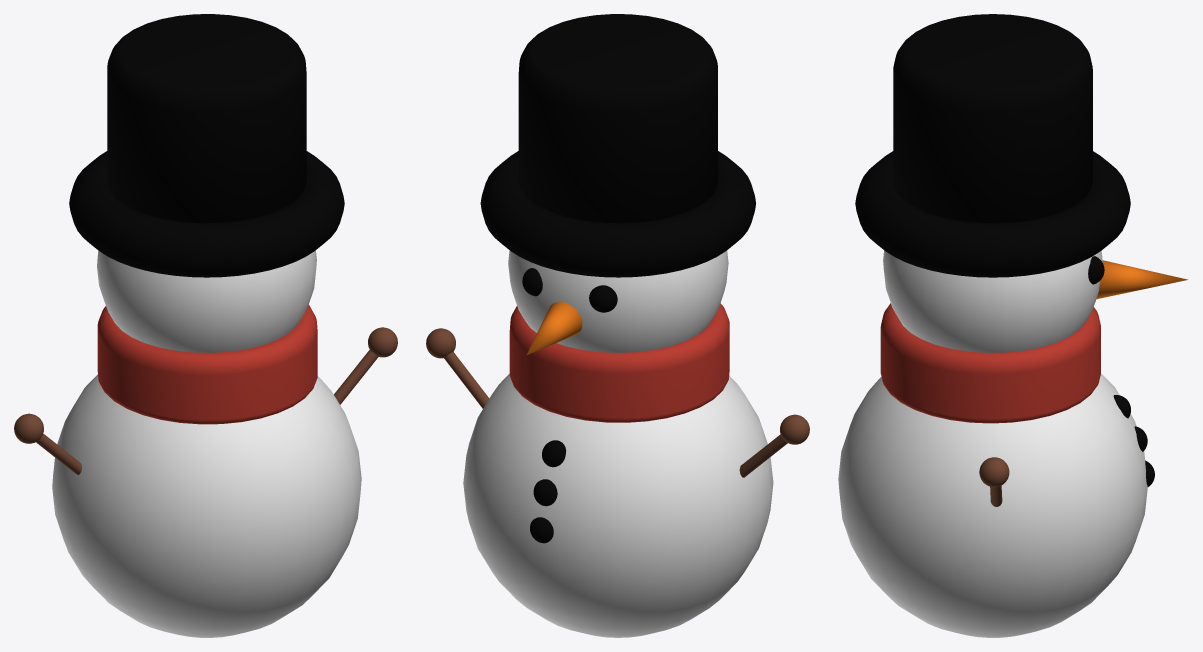
File: UnitySnowMan.fbx
The picture shows the model from 3 angles, left to right: view 1: azimuth 30°, elevation 25°; view 2: azimuth 150°, elevation 25°; view 3: azimuth 270°, elevation 25°; orthographic projection.
Parts seen in each view (by area): view 1: SnowManBody, Hat, 목도리, SnowMan Head, BrownMaterial; view 2: SnowManBody, Hat, 목도리, SnowMan Head, BrownMaterial, BlackMaterial, Carrot; view 3: SnowManBody, Hat, 목도리, SnowMan Head, Carrot, BlackMaterial, BrownMaterial.
Part boxes in pixels (box(x1,y1,x2,y2)): SnowManBody: box(52, 374, 361, 637); Hat: box(69, 14, 344, 277); 목도리: box(97, 305, 317, 424); SnowMan Head: box(97, 250, 316, 352); BrownMaterial: box(14, 327, 397, 474); SnowManBody: box(463, 374, 773, 637); Hat: box(480, 14, 755, 277); 목도리: box(509, 303, 729, 422); SnowMan Head: box(508, 250, 728, 352); BrownMaterial: box(426, 328, 809, 477); BlackMaterial: box(522, 268, 617, 543); Carrot: box(526, 302, 582, 355); SnowManBody: box(838, 373, 1147, 637); Hat: box(855, 14, 1130, 277); 목도리: box(880, 303, 1100, 423); SnowMan Head: box(883, 250, 1102, 352); Carrot: box(1096, 260, 1187, 299); BlackMaterial: box(1088, 256, 1154, 486); BrownMaterial: box(979, 457, 1009, 506).
Size of the model in its own units: 195 by 281 by 156.
